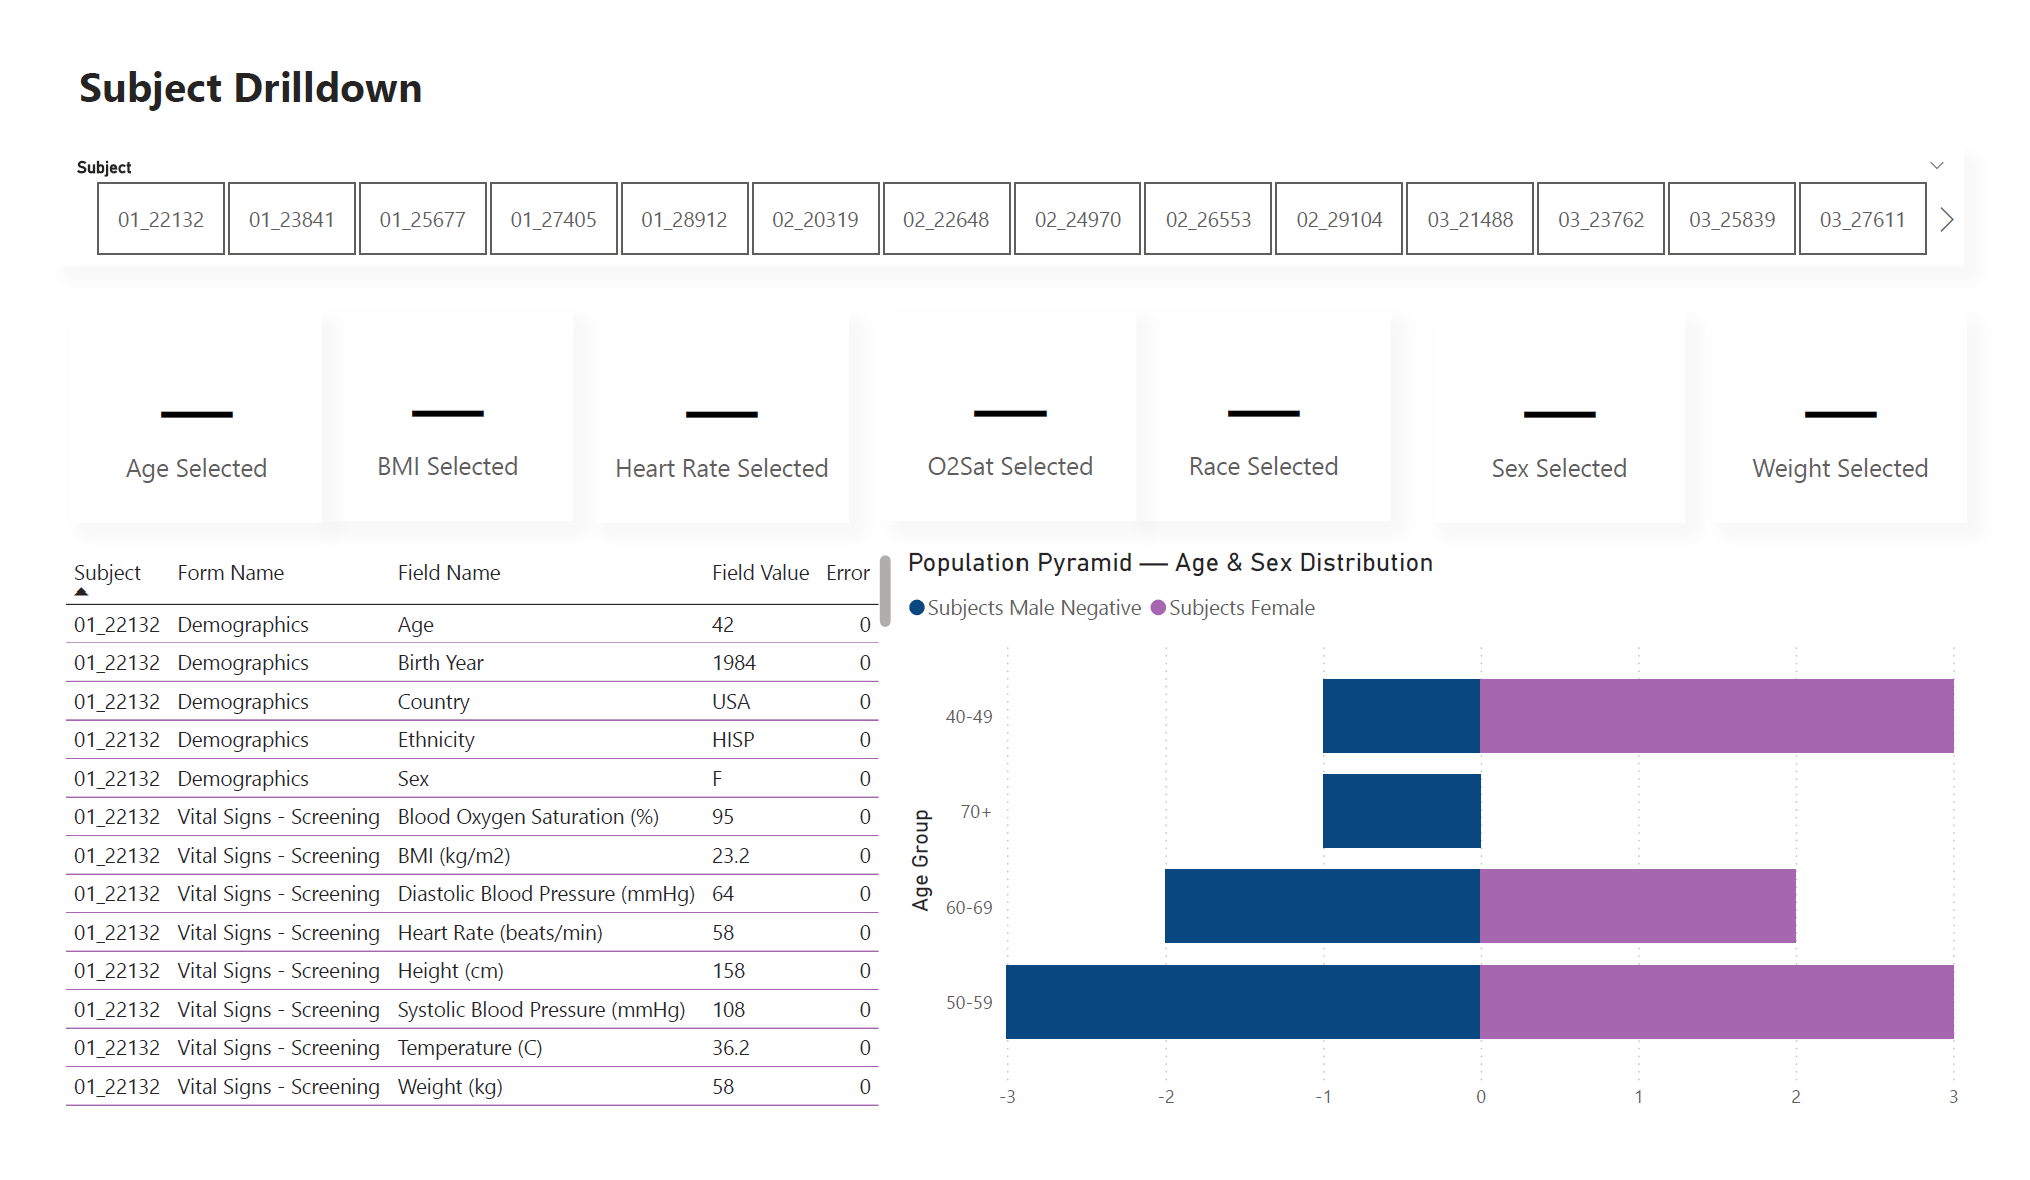

The dashboard page shown, as its layout file describes it:
{"tool":"powerbi","page":{"name":"Subject Drilldown","canvas":[1280,720],"ordinal":2},"visuals":[{"type":"slicer","fields":{"Values":["dummy_edc_v4.Subject"]},"box":[16.6,74,1237.9,75.3],"z":0},{"type":"card","fields":{"Values":["EDC Wide.Age Selected"]},"box":[25.5,179.9,163.3,136.6],"z":1000},{"type":"card","fields":{"Values":["EDC Wide.BMI Selected"]},"box":[188.9,178.7,163.3,136.6],"z":2000},{"type":"card","fields":{"Values":["EDC Wide.Heart Rate Selected"]},"box":[366.3,179.9,164.6,136.6],"z":3000},{"type":"card","fields":{"Values":["EDC Wide.O2Sat Selected"]},"box":[553.9,178.7,163.3,136.6],"z":4000},{"type":"card","fields":{"Values":["EDC Wide.Race Selected"]},"box":[717.2,178.7,164.6,136.6],"z":5000},{"type":"tableEx","fields":{"Values":["dummy_edc_v4.Subject","dummy_edc_v4.Form Name","dummy_edc_v4.Field Name","dummy_edc_v4.Field Value","dummy_edc_v4.Error"]},"box":[16.6,330.5,547.5,372.6],"z":6000},{"type":"barChart","title":"Population Pyramid — Age & Sex Distribution","fields":{"Category":["Demographics Wide.Age Group"],"Y":["Demographics Wide.Subjects Male Negative","Demographics Wide.Subjects Female"]},"box":[564.1,330.5,691.7,375.2],"z":7000},{"type":"card","fields":{"Values":["EDC Wide.Sex Selected"]},"box":[909.9,179.9,163.3,136.6],"z":8000},{"type":"card","fields":{"Values":["EDC Wide.Weight Selected"]},"box":[1092.4,179.9,163.3,136.6],"z":9000},{"type":"textbox","box":[25.5,8.9,372.6,47.2],"z":10000}]}

Visuals, with their boxes on the page's 1280x720 design canvas (x1, y1, x2, y2). These are canvas units, not pixel positions in the 2030x1180 screenshot, which may show the page scaled, cropped or inside an application window:
slicer - dummy_edc_v4.Subject: BBox(17, 74, 1254, 149)
card - EDC Wide.Age Selected: BBox(26, 180, 189, 316)
card - EDC Wide.BMI Selected: BBox(189, 179, 352, 315)
card - EDC Wide.Heart Rate Selected: BBox(366, 180, 531, 316)
card - EDC Wide.O2Sat Selected: BBox(554, 179, 717, 315)
card - EDC Wide.Race Selected: BBox(717, 179, 882, 315)
tableEx - dummy_edc_v4.Subject x dummy_edc_v4.Form Name: BBox(17, 330, 564, 703)
"Population Pyramid — Age & Sex Distribution" barChart: BBox(564, 330, 1256, 706)
card - EDC Wide.Sex Selected: BBox(910, 180, 1073, 316)
card - EDC Wide.Weight Selected: BBox(1092, 180, 1256, 316)
textbox: BBox(26, 9, 398, 56)
